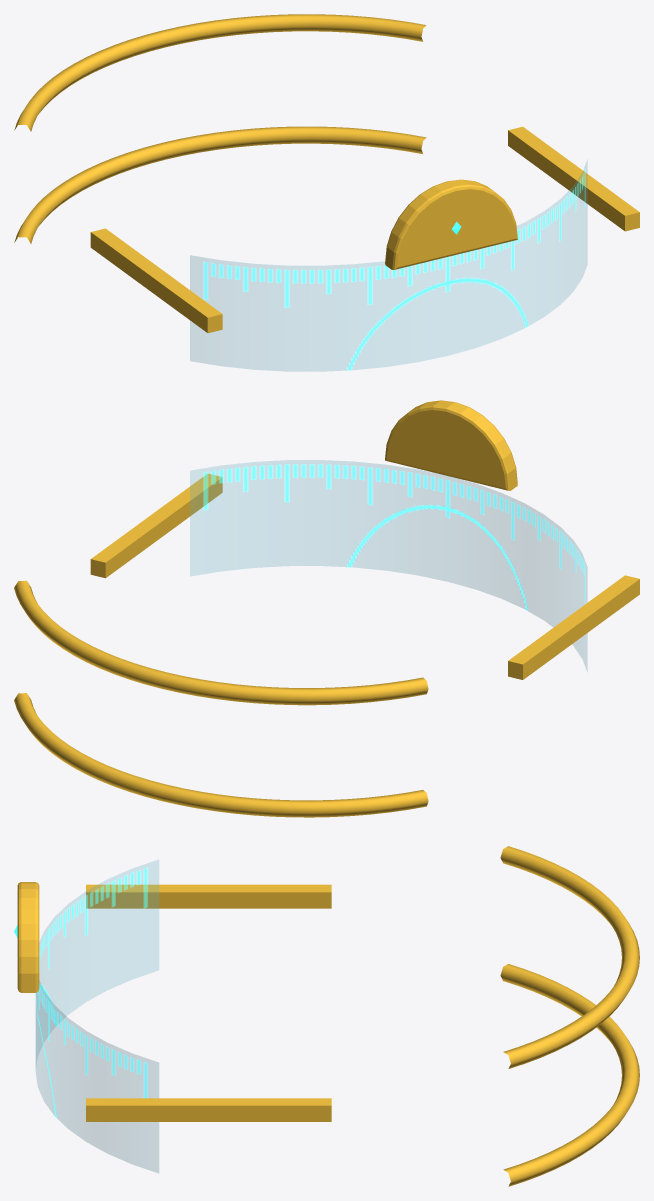
File: gl_eqsu4.glb
3 renders of one model, top to bottom at view 1: azimuth 30°, elevation 25°; view 2: azimuth 150°, elevation 25°; view 3: azimuth 270°, elevation 25°, orthographic. The views are drawn at different scales.
Size of the model in its own units: 2.23 by 0.9107 by 2.67.
3 materials, 1 textured.
